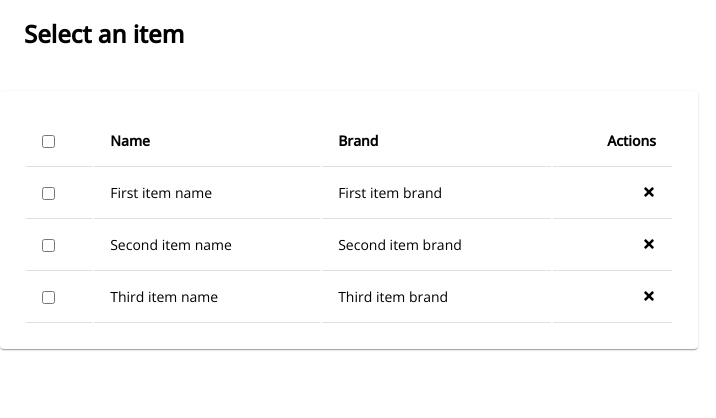
Test: <ItemInspector /> › should render the item in detail view if one item is selected
Click the checkbox next to "Second item name": (48, 245) [42, 239, 55, 252]
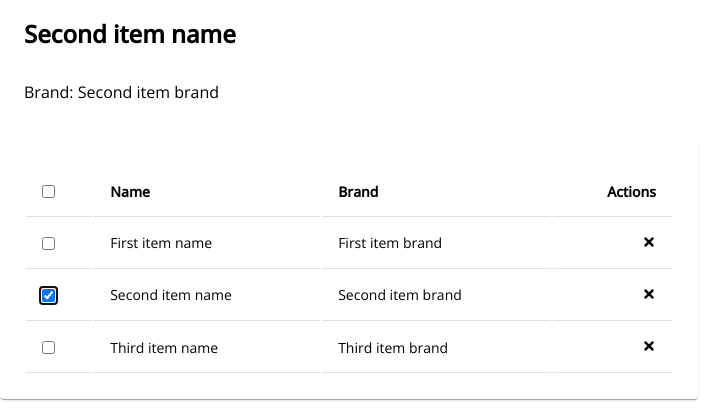
Now the heading with test id "itemDetailName" reads "Second item name", box [24, 17, 236, 50]
